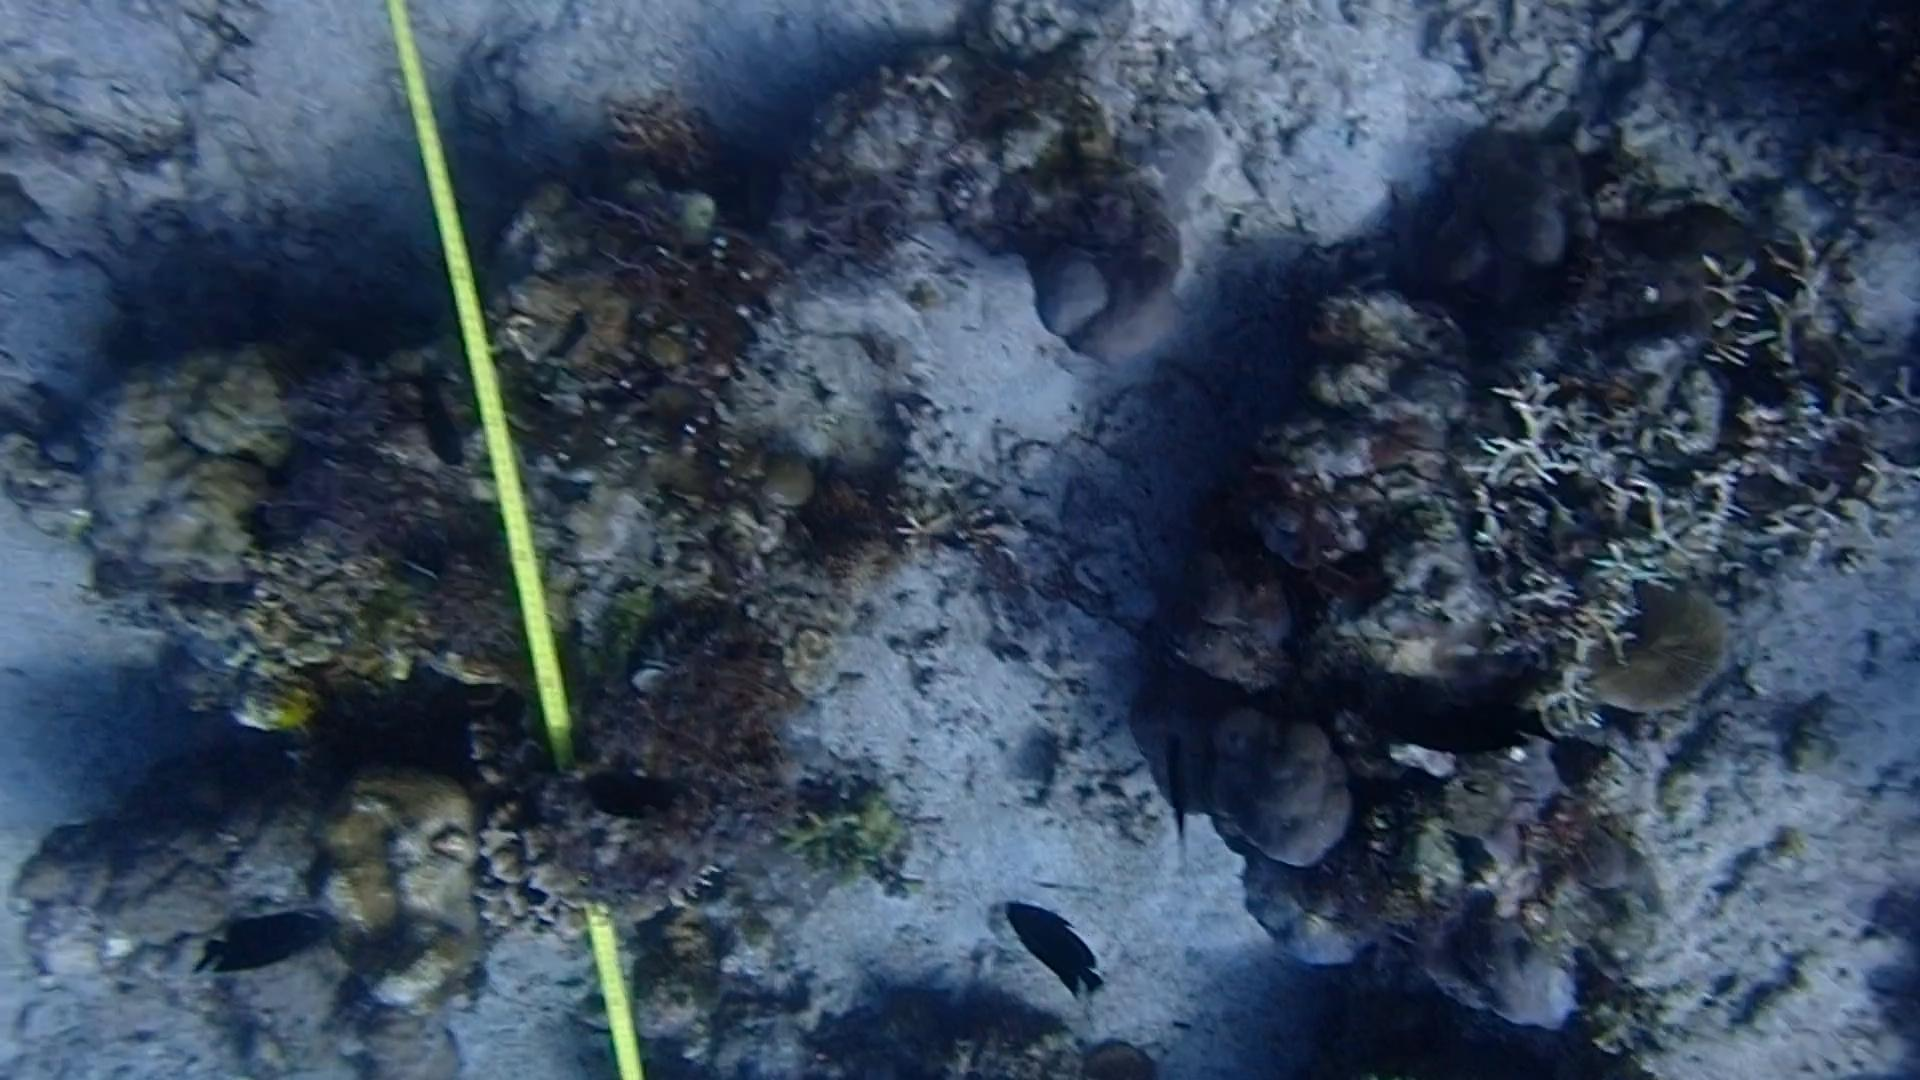Dark Fish: (1419, 690, 1572, 777), (1002, 902, 1127, 1007), (199, 906, 330, 980), (585, 762, 687, 840), (1137, 733, 1203, 852), (417, 375, 467, 472)
